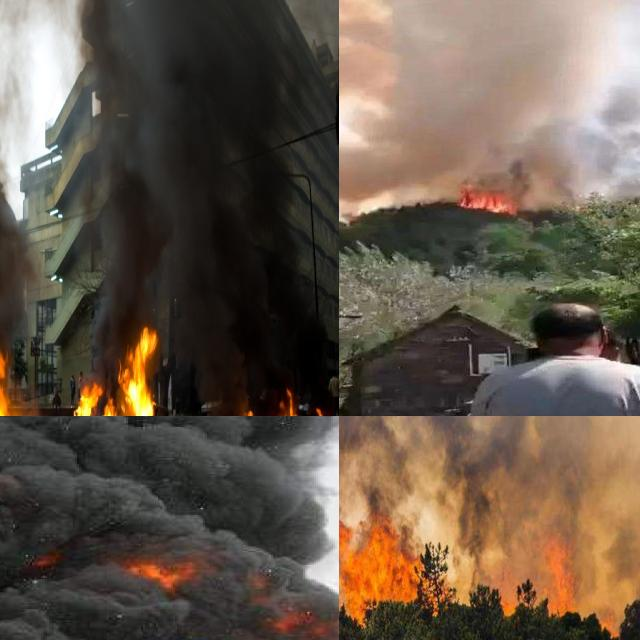fire: (79, 512, 339, 640), (339, 416, 447, 620), (486, 529, 614, 628), (75, 326, 160, 416), (0, 346, 52, 416), (231, 393, 339, 416), (456, 188, 531, 221)
smoke: (86, 0, 330, 378), (0, 416, 339, 640), (339, 0, 602, 186), (339, 416, 640, 569), (0, 0, 28, 393), (616, 87, 640, 159)
